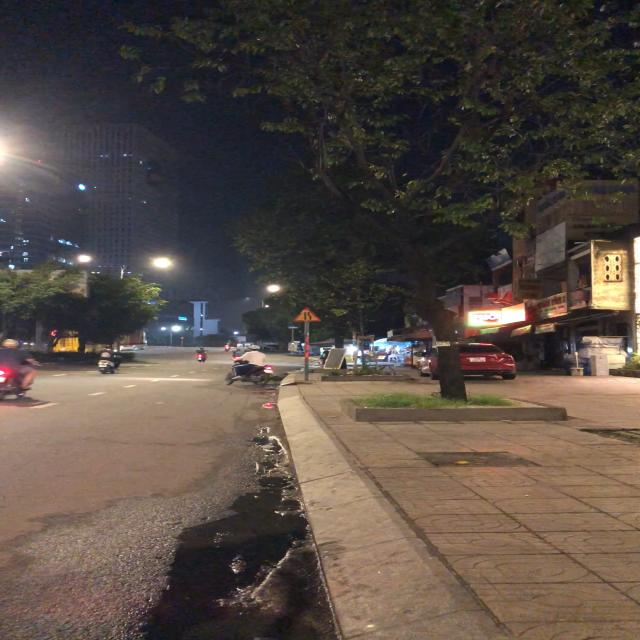Bien bao duong bi thu hep: (289, 306, 327, 323)
